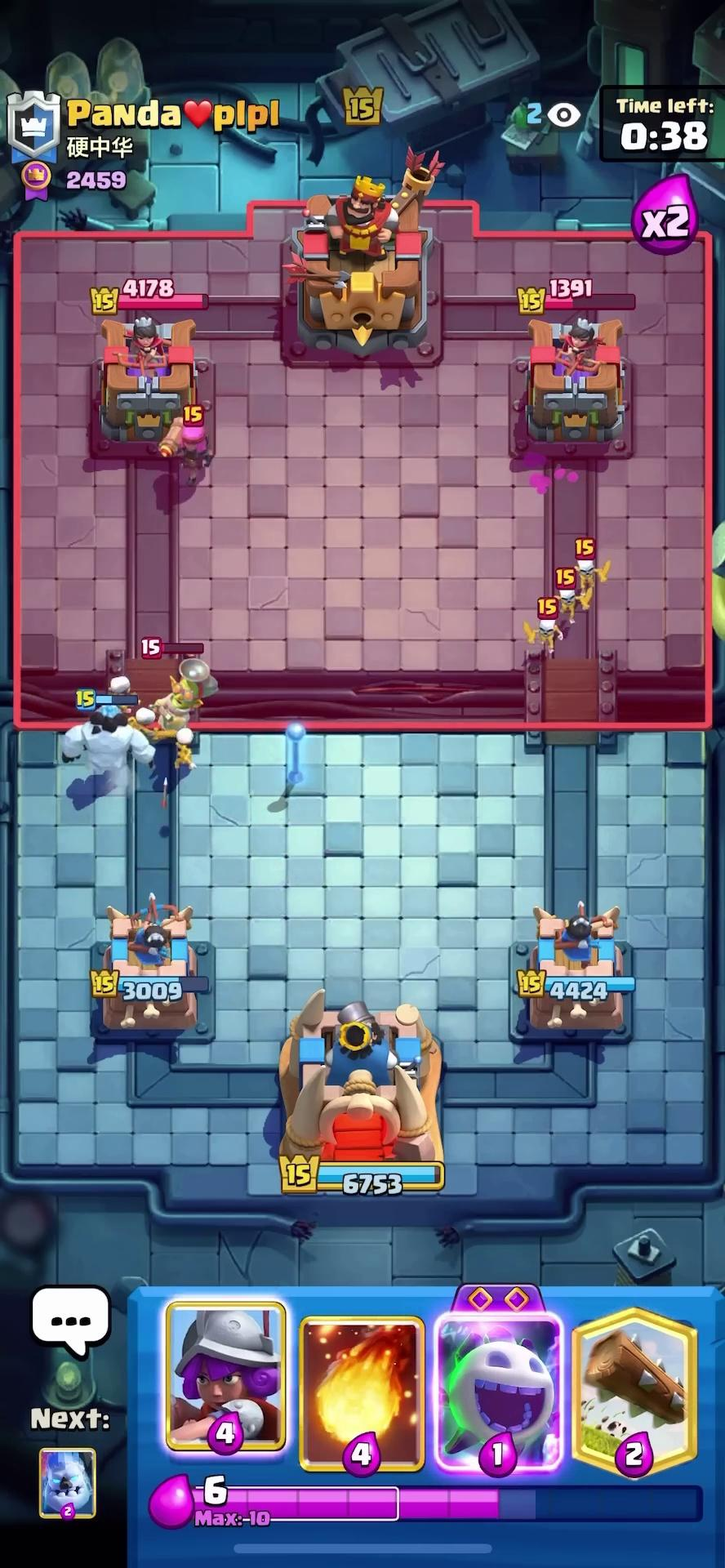ice_golem: (55, 682, 147, 778)
skeletons: (120, 666, 159, 745), (169, 715, 218, 766)
